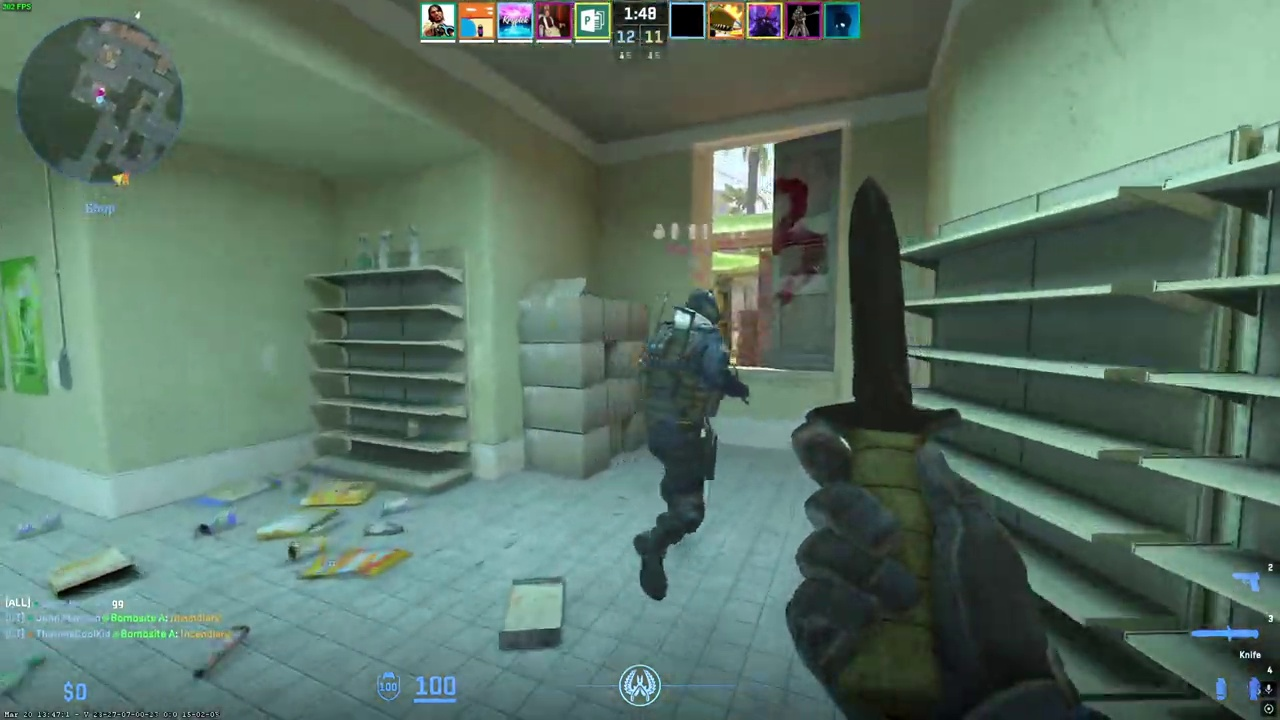CT: (633, 288, 749, 597)
